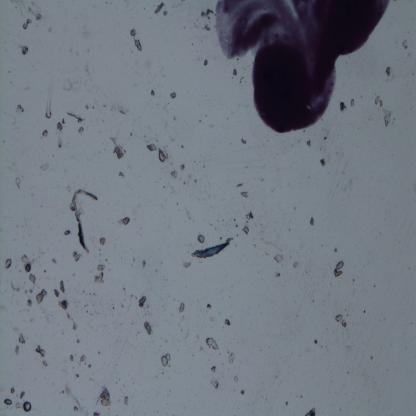Air bubble: (22, 401, 32, 412)
Background material: (110, 135, 128, 159), (100, 386, 113, 408), (21, 253, 32, 273), (67, 111, 85, 123), (204, 336, 219, 350), (45, 94, 53, 119), (333, 261, 344, 279), (35, 288, 47, 304), (383, 108, 393, 127), (200, 8, 215, 20), (335, 313, 347, 328), (161, 351, 171, 368), (21, 17, 34, 30), (154, 1, 165, 15), (35, 343, 46, 357), (399, 36, 409, 51), (13, 175, 22, 190), (227, 349, 236, 364), (273, 252, 284, 264), (158, 149, 168, 162), (143, 321, 152, 335), (17, 331, 26, 345), (94, 272, 104, 284), (72, 250, 82, 262), (132, 40, 142, 52), (57, 299, 69, 309), (303, 407, 316, 416), (242, 222, 250, 236), (59, 279, 66, 295), (96, 234, 106, 245), (10, 281, 20, 292), (196, 233, 206, 244), (20, 45, 29, 57), (120, 216, 130, 226), (117, 106, 128, 115), (374, 96, 383, 107), (210, 379, 219, 390), (178, 300, 185, 314), (182, 261, 194, 269), (138, 296, 146, 308), (127, 27, 136, 37), (40, 163, 51, 171), (4, 258, 12, 269), (16, 104, 24, 115), (245, 210, 254, 219), (239, 190, 249, 198), (308, 216, 315, 227), (29, 274, 36, 285), (147, 144, 156, 152), (141, 258, 147, 270), (385, 66, 391, 78), (170, 169, 178, 178), (179, 162, 186, 172), (14, 344, 20, 355), (65, 385, 71, 396), (97, 264, 105, 272), (292, 261, 300, 269), (202, 24, 210, 32), (42, 129, 50, 137), (224, 318, 232, 326), (79, 354, 87, 362), (72, 405, 81, 412), (53, 288, 59, 298), (57, 121, 63, 131), (339, 102, 346, 110), (4, 398, 12, 405), (58, 139, 64, 148), (320, 158, 326, 167), (20, 390, 26, 399), (72, 322, 78, 331), (43, 358, 48, 368), (211, 364, 216, 374), (78, 126, 84, 134), (26, 299, 32, 307), (350, 99, 356, 107), (10, 387, 16, 395), (306, 140, 312, 148), (169, 92, 177, 98), (124, 395, 128, 407), (233, 374, 239, 382), (66, 312, 72, 320), (203, 58, 208, 67), (186, 209, 190, 220), (64, 229, 70, 236), (68, 354, 74, 361), (163, 9, 168, 17), (241, 138, 247, 144), (51, 258, 57, 264), (36, 14, 42, 20), (240, 388, 246, 394), (206, 303, 212, 309), (346, 346, 352, 352), (236, 183, 243, 188), (151, 89, 156, 96), (240, 76, 244, 84), (233, 68, 237, 76), (274, 272, 280, 277), (25, 85, 30, 91), (94, 411, 100, 416), (332, 248, 338, 253), (120, 172, 125, 178), (74, 373, 80, 378), (284, 400, 289, 406), (62, 118, 66, 125), (86, 103, 90, 110), (122, 286, 126, 292), (322, 136, 328, 140), (28, 6, 32, 12), (24, 289, 28, 295), (313, 338, 317, 344), (180, 144, 184, 149), (194, 179, 198, 184), (129, 132, 133, 137), (90, 377, 94, 382), (76, 339, 80, 344), (369, 356, 373, 361), (164, 338, 168, 343), (130, 292, 133, 298), (29, 288, 32, 294), (183, 180, 186, 186), (363, 308, 366, 314), (88, 364, 92, 368), (300, 395, 304, 399), (83, 304, 88, 307), (72, 272, 75, 277), (173, 116, 176, 121), (62, 389, 65, 394), (118, 377, 121, 381), (89, 292, 92, 296), (235, 224, 238, 228), (105, 258, 108, 262), (132, 256, 134, 262), (202, 165, 206, 168), (115, 363, 118, 367), (92, 105, 95, 109), (162, 371, 165, 375), (346, 372, 350, 375), (176, 201, 178, 206), (118, 399, 120, 404), (121, 305, 124, 308), (137, 331, 140, 334), (93, 293, 96, 296), (82, 290, 85, 293), (198, 119, 201, 122), (352, 278, 355, 281), (373, 285, 376, 288), (86, 310, 88, 314), (234, 217, 236, 221), (90, 312, 92, 316), (237, 233, 239, 237), (163, 185, 165, 189), (98, 350, 100, 354), (168, 364, 170, 368), (159, 345, 162, 347), (104, 325, 107, 327), (262, 178, 264, 181), (112, 307, 115, 309), (94, 310, 96, 313), (194, 160, 196, 163), (210, 223, 212, 226), (44, 270, 46, 273), (84, 362, 86, 365), (152, 340, 154, 342), (169, 390, 171, 392), (96, 294, 98, 296), (92, 326, 93, 328), (116, 382, 117, 384)
Cellulose filter fibre: (71, 188, 98, 254)
Cotton: (190, 238, 233, 260)
Pen: (215, 0, 389, 133)
